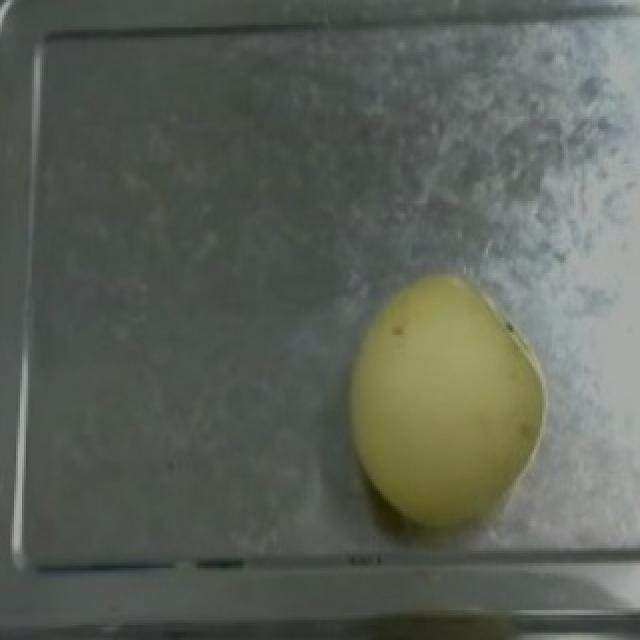Fruit: (332, 258, 558, 533)
